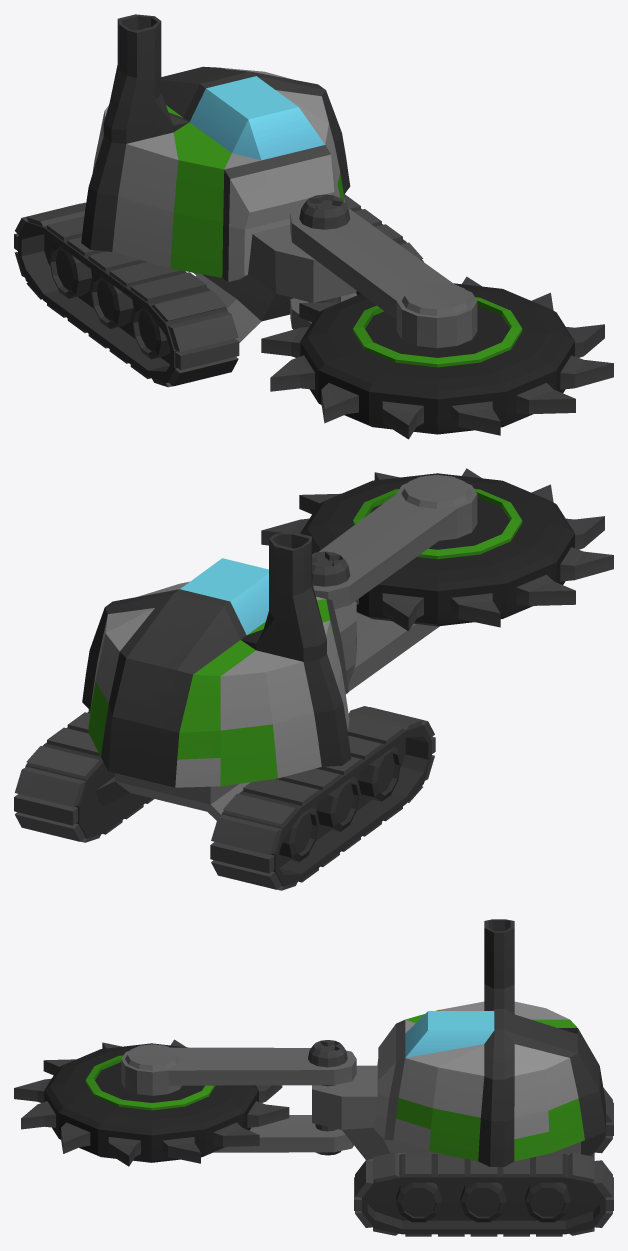
File: Drone_Saw_Full.obj
3 views of the same model, one above another, from view 1: azimuth 30°, elevation 25°; view 2: azimuth 150°, elevation 25°; view 3: azimuth 270°, elevation 25° (orthographic). The views are drawn at different scales.
Parts seen in each view (by area): view 1: Drone_Saw_Full; view 2: Drone_Saw_Full; view 3: Drone_Saw_Full.
Part boxes in pixels (x1,y1,x2,y2): Drone_Saw_Full: (14,14,613,439); Drone_Saw_Full: (14,468,613,890); Drone_Saw_Full: (14,919,613,1236).
Size of the model in its own units: 5.9 by 5.53 by 12.85.
